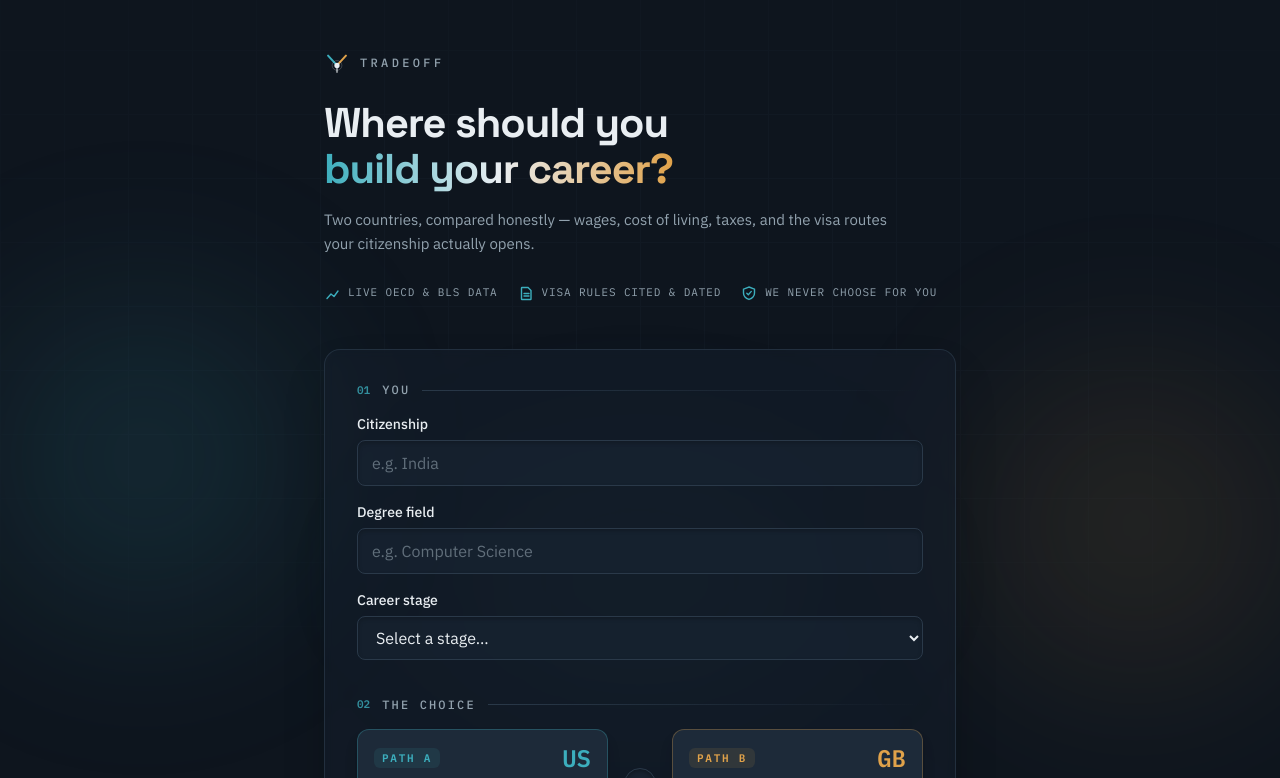
Test case: IntakePage › rejects two identical countries
Type "India" into the field labelled "Citizenship" at (640, 463), box [357, 440, 923, 486]
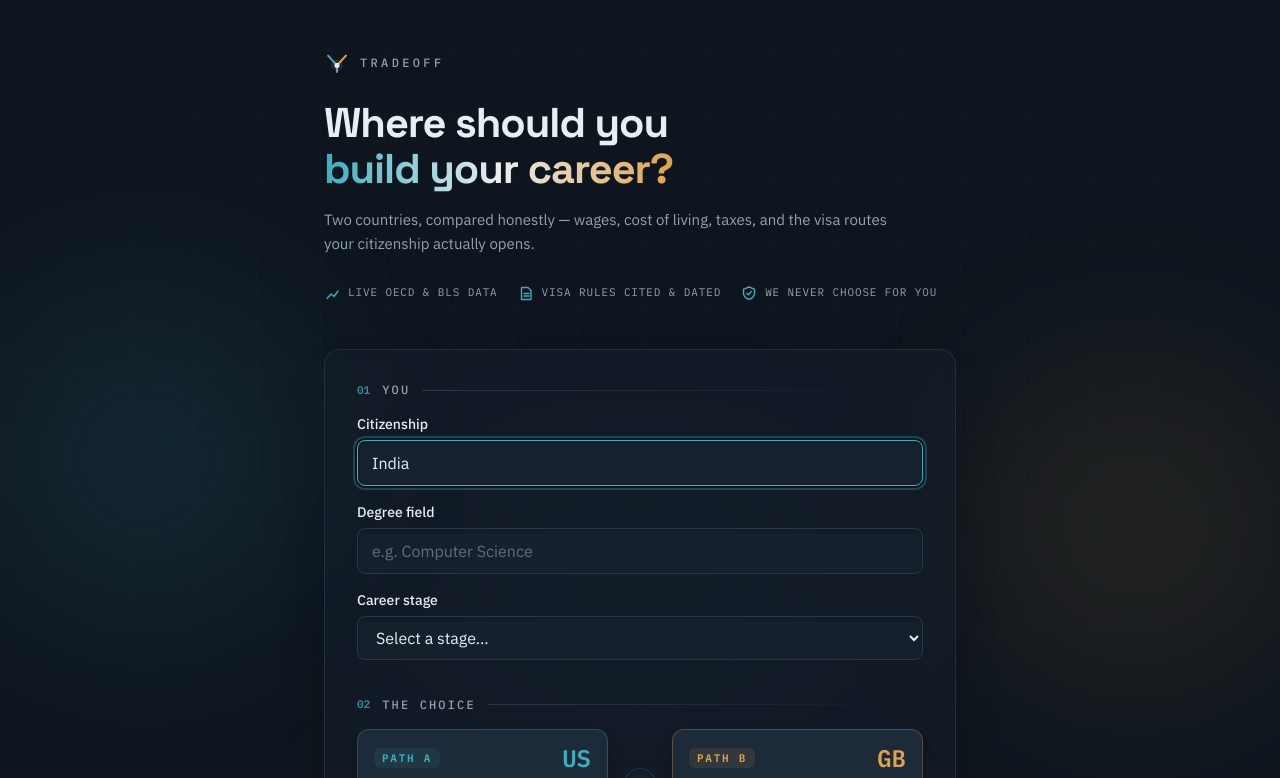
Type "Computer Science" into the field labelled "Degree field" at (640, 551), box [357, 528, 923, 574]
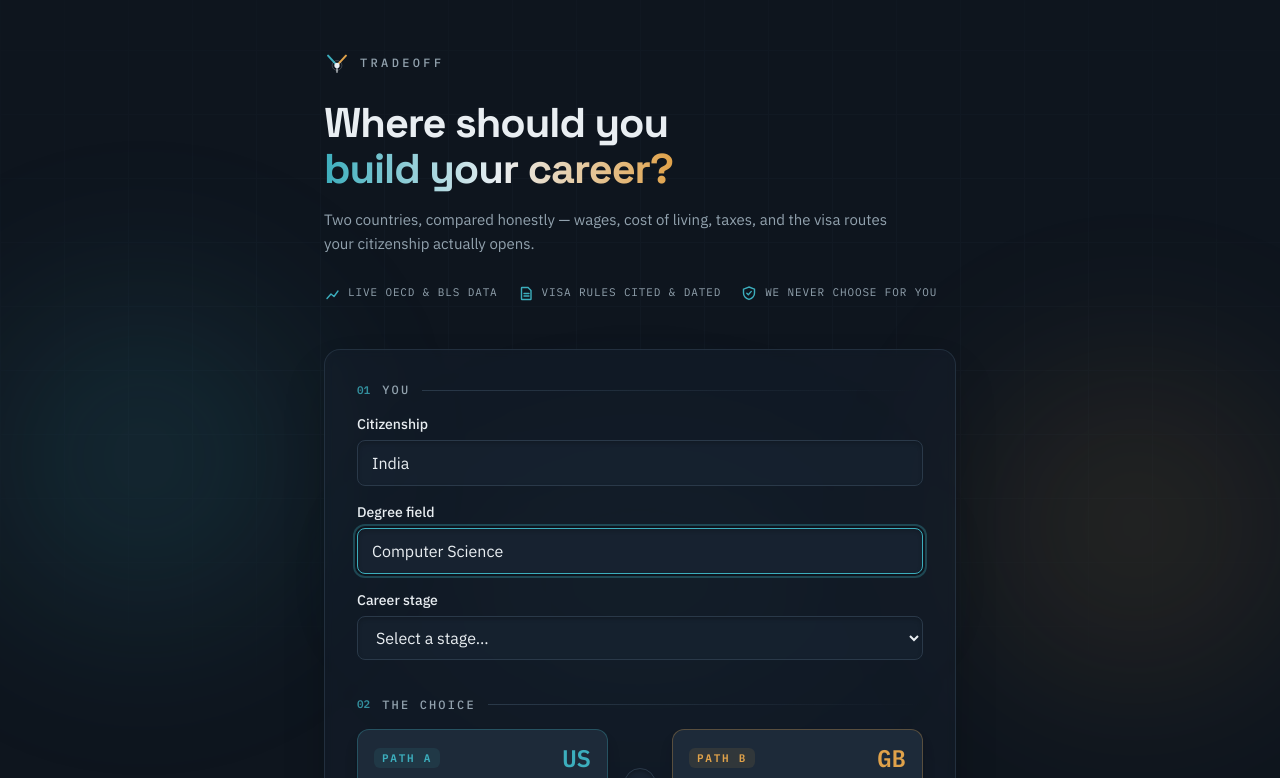
Select "New grad" in the dropdown labelled "Career stage" at (640, 638), box [357, 616, 923, 660]
(page scrolled)
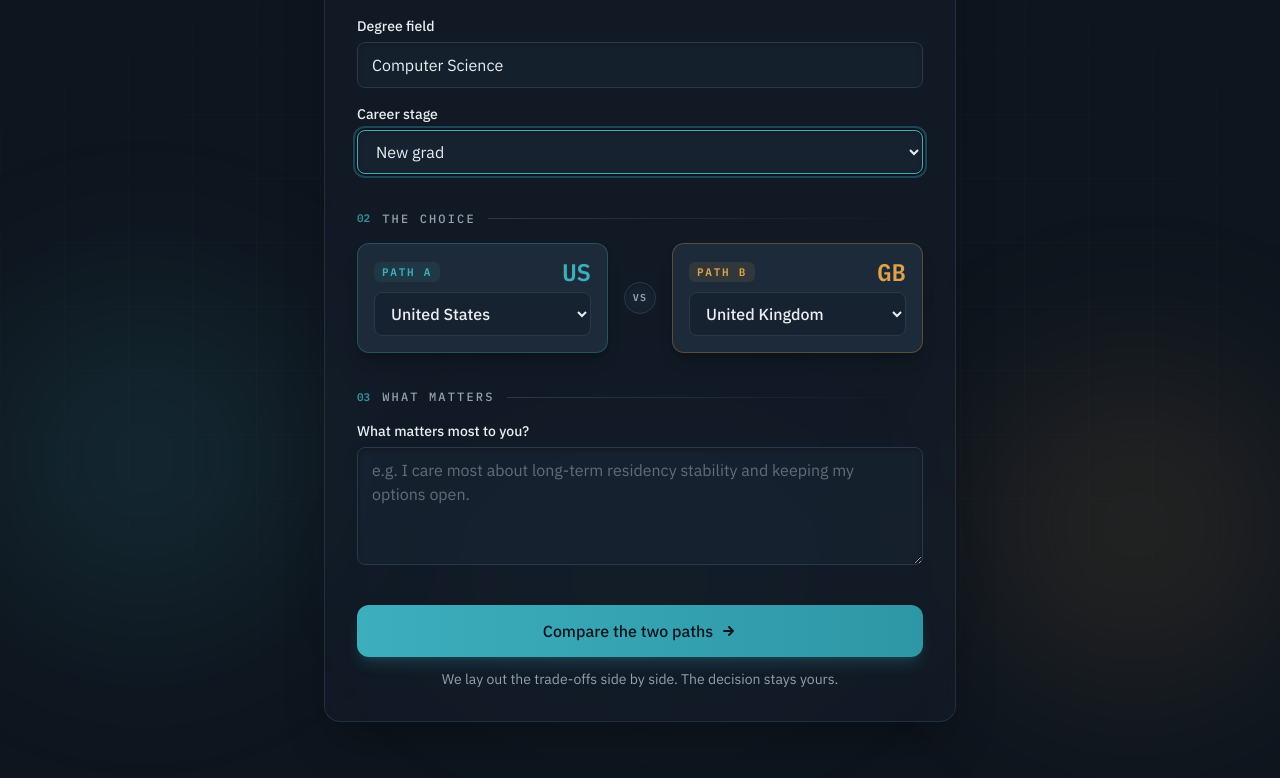
Type "stability" into the text box labelled "What matters most to you?" at (640, 506), box [357, 447, 923, 565]
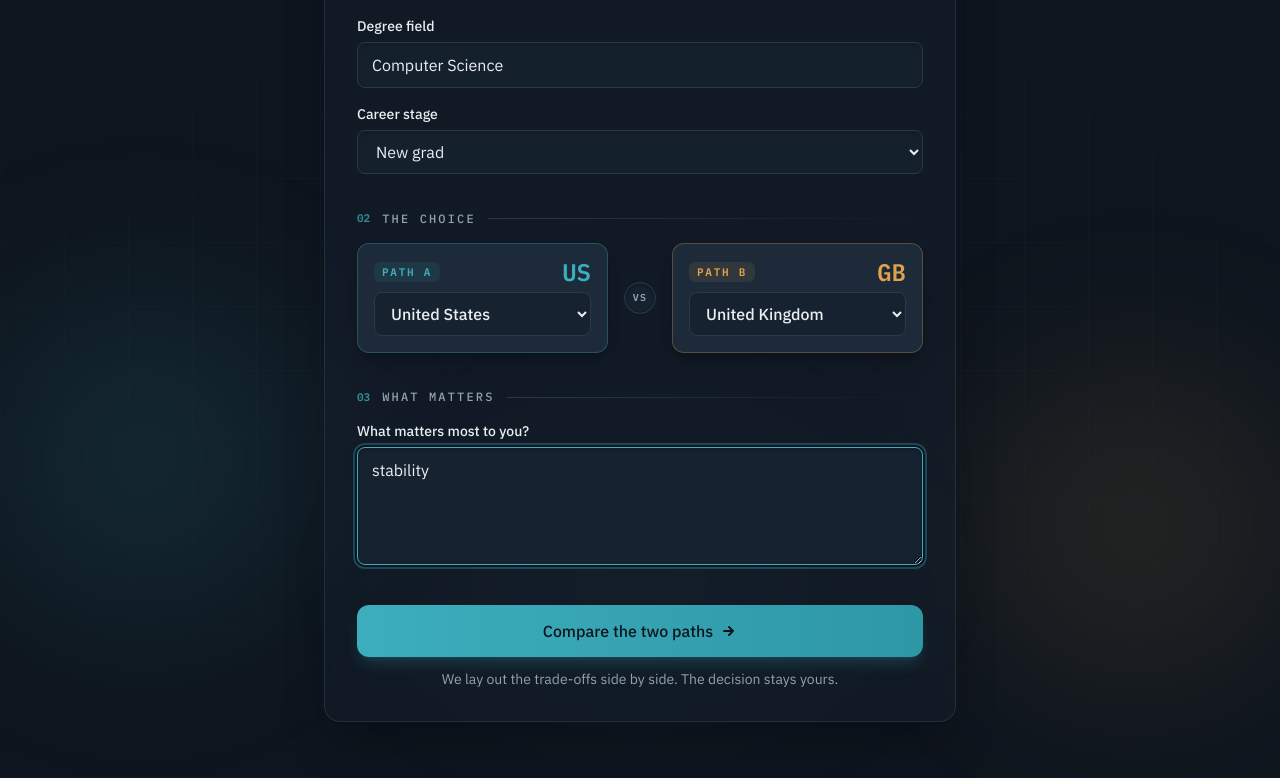
Select "United States" in the dropdown named "Country B" below "GB" at (798, 314), box [689, 292, 906, 336]
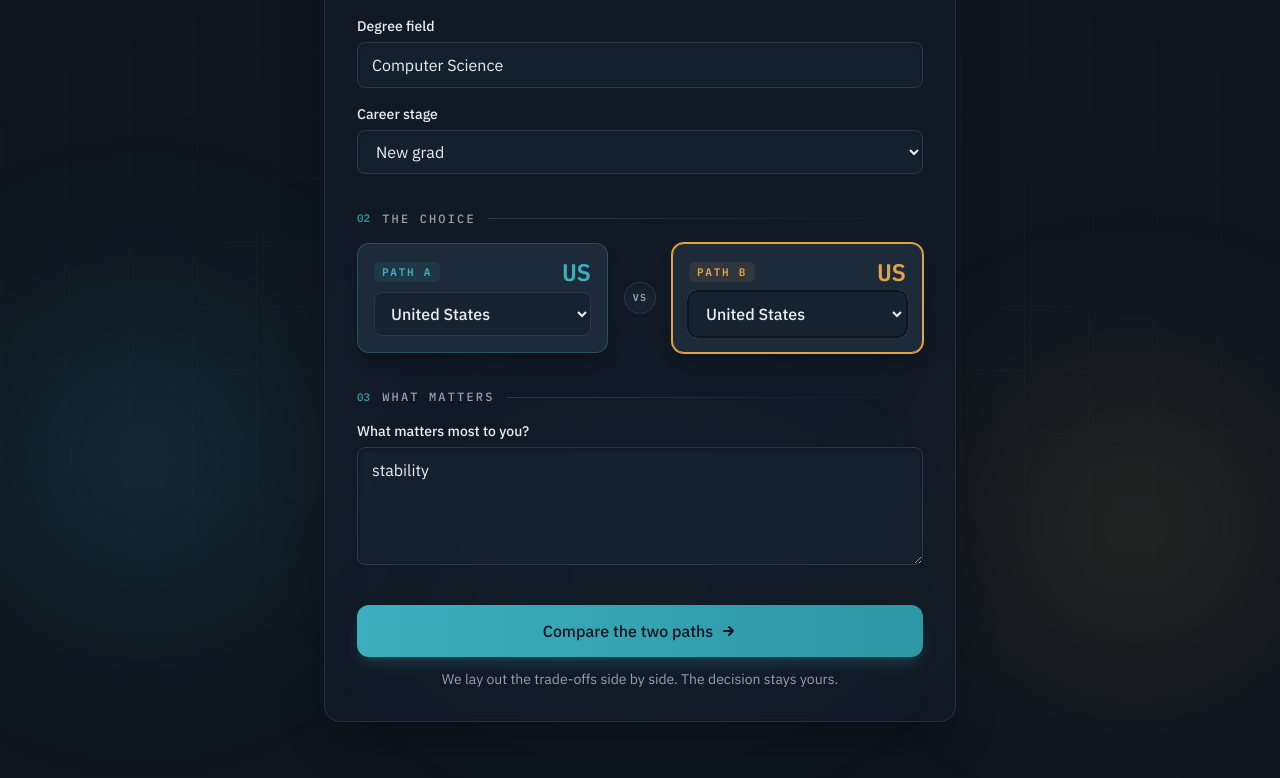
Click the button "Compare the two paths" at (640, 631), box [357, 605, 923, 657]
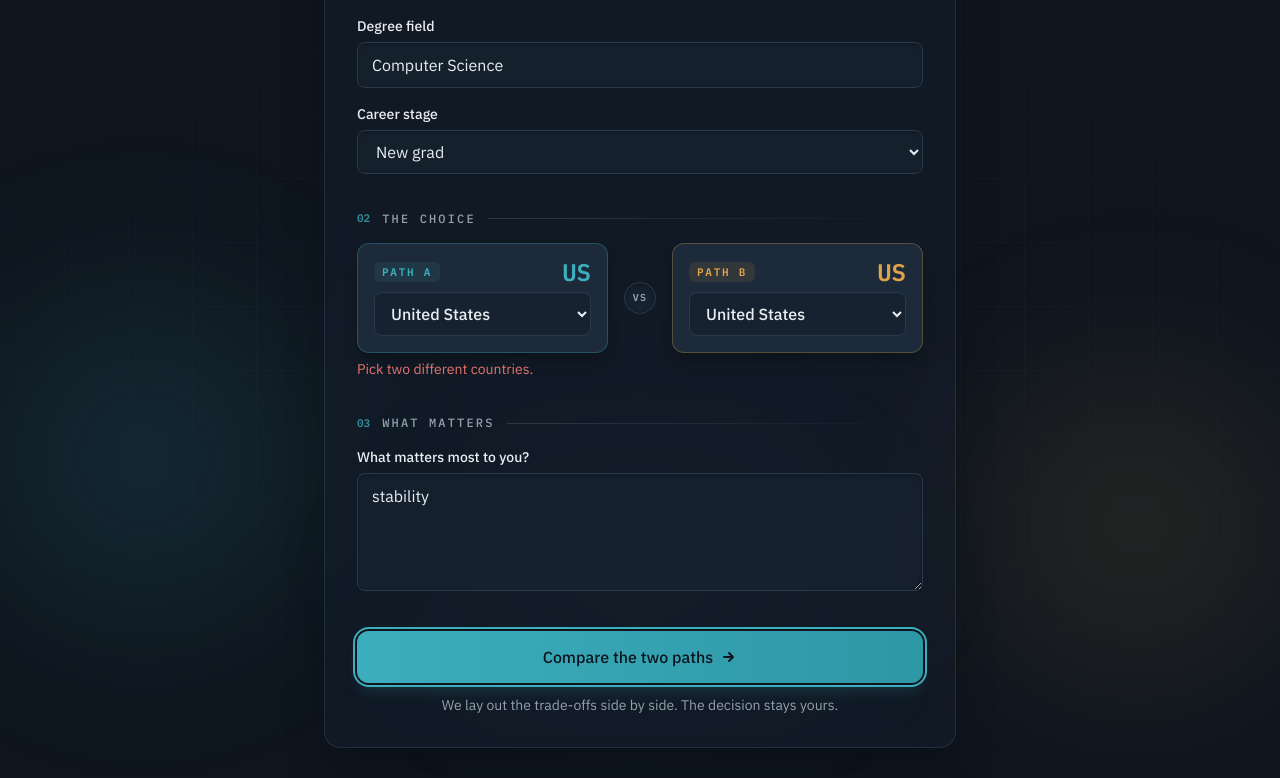
Expected: the text "Pick two different countries." is shown, [357, 360, 533, 378]
